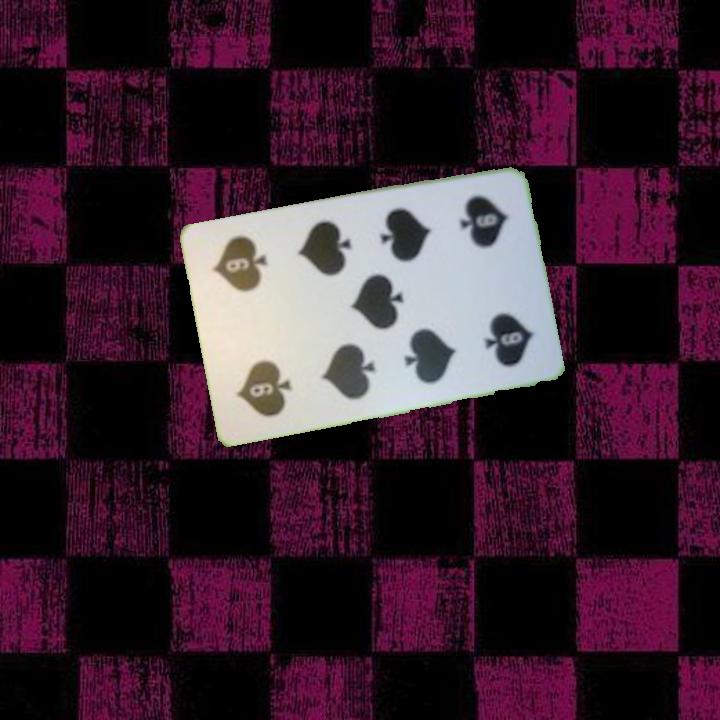s_9.png: (428, 179, 530, 292), (214, 316, 316, 429)
